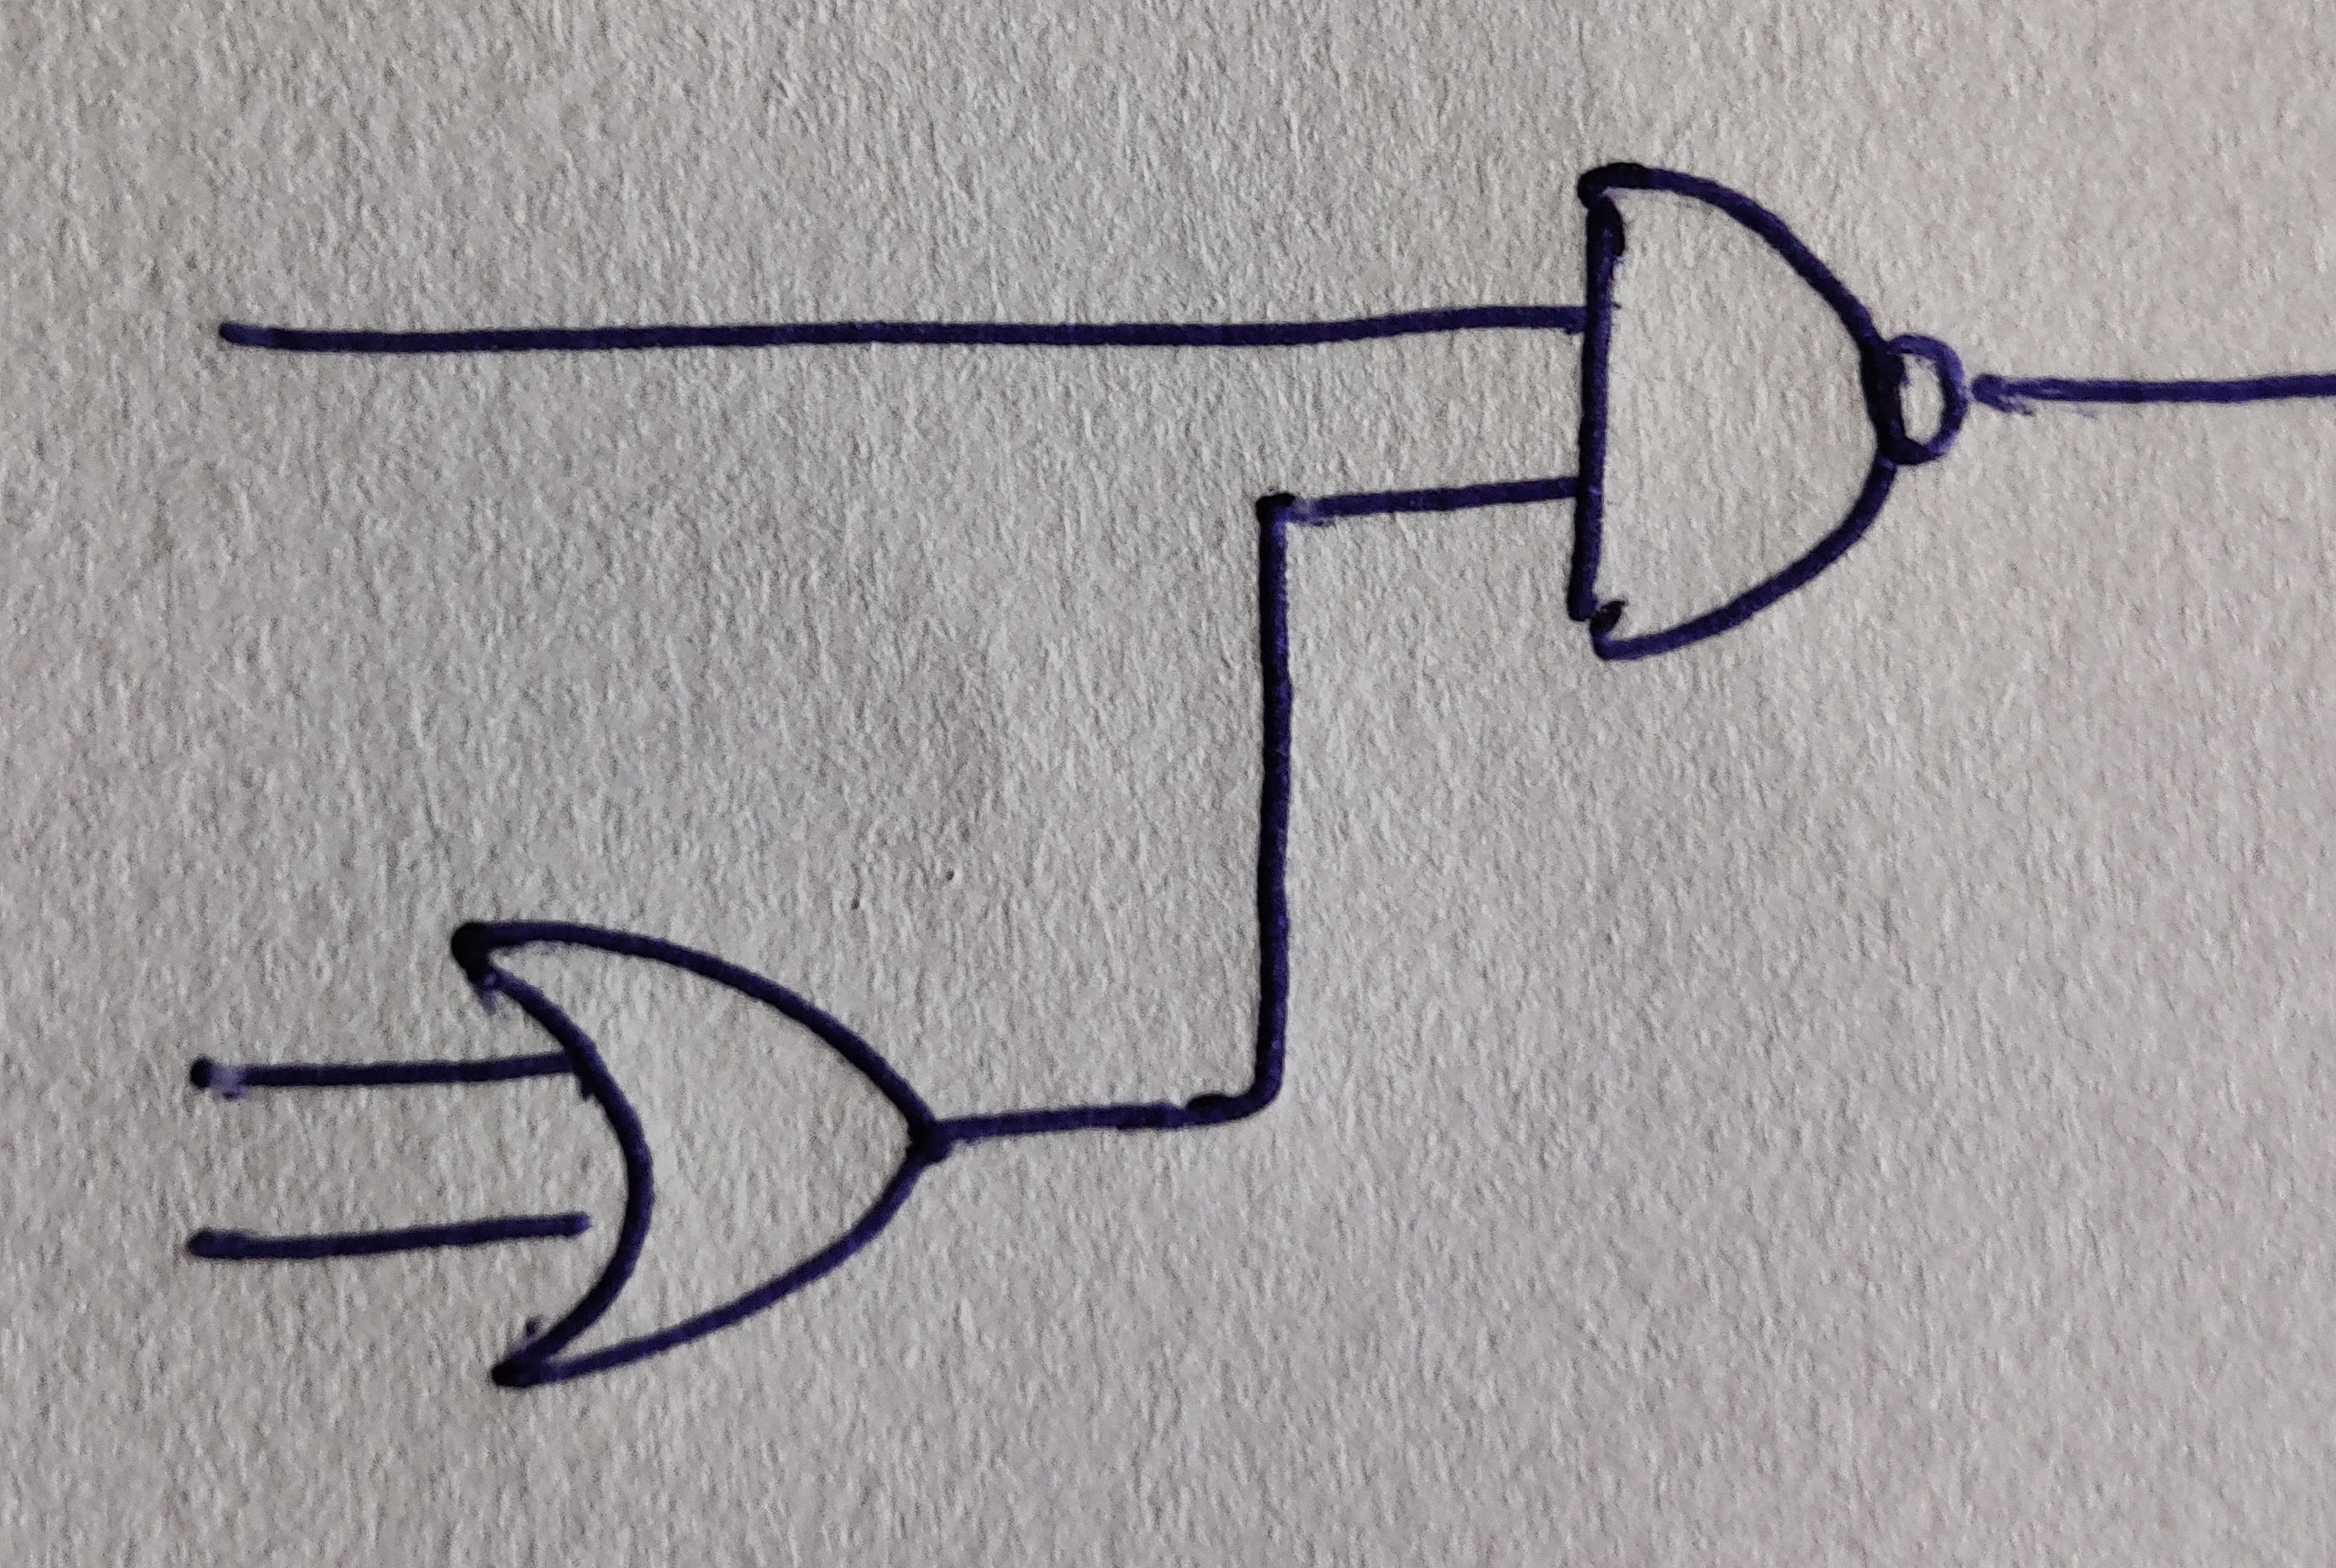and: (1564, 161, 1899, 662)
not: (1862, 332, 1970, 469)
or: (450, 920, 943, 1391)
